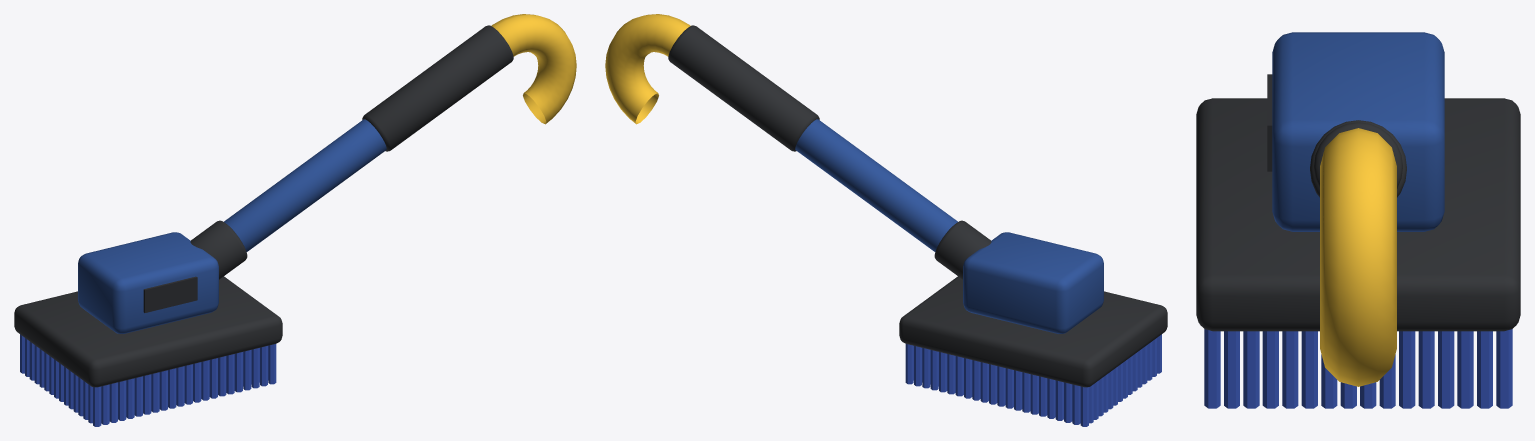
The model's file is BrosseManuelle.fbx.
3 renders of one model, left to right at view 1: azimuth 30°, elevation 25°; view 2: azimuth 150°, elevation 25°; view 3: azimuth 270°, elevation 25°, orthographic. The views are drawn at different scales.
Visible parts, largest first — view 1: BrosseMan_Base, BrosseMan_Bristles, BrosseMan_BatteryBox, BrosseMan_ShaftBlack, BrosseMan_ShaftBlue, BrosseMan_Handle, BrosseMan_Joint, BrosseMan_Display; view 2: BrosseMan_Base, BrosseMan_BatteryBox, BrosseMan_Bristles, BrosseMan_ShaftBlack, BrosseMan_ShaftBlue, BrosseMan_Handle, BrosseMan_Joint; view 3: BrosseMan_Base, BrosseMan_BatteryBox, BrosseMan_Handle, BrosseMan_Bristles, BrosseMan_ShaftBlack, BrosseMan_Joint, BrosseMan_Display.
Part boxes in pixels (left/top/right/bottom): BrosseMan_Base: left=14, top=276, right=282, bottom=387; BrosseMan_Bristles: left=20, top=334, right=276, bottom=426; BrosseMan_BatteryBox: left=78, top=232, right=218, bottom=333; BrosseMan_ShaftBlack: left=362, top=25, right=513, bottom=151; BrosseMan_ShaftBlue: left=224, top=119, right=386, bottom=251; BrosseMan_Handle: left=491, top=14, right=576, bottom=124; BrosseMan_Joint: left=190, top=220, right=247, bottom=279; BrosseMan_Display: left=143, top=276, right=197, bottom=312; BrosseMan_Base: left=899, top=276, right=1167, bottom=387; BrosseMan_BatteryBox: left=963, top=232, right=1103, bottom=333; BrosseMan_Bristles: left=905, top=334, right=1161, bottom=426; BrosseMan_ShaftBlack: left=668, top=25, right=819, bottom=151; BrosseMan_ShaftBlue: left=795, top=119, right=957, bottom=251; BrosseMan_Handle: left=605, top=14, right=690, bottom=124; BrosseMan_Joint: left=934, top=220, right=991, bottom=279; BrosseMan_Base: left=1196, top=98, right=1520, bottom=331; BrosseMan_BatteryBox: left=1272, top=32, right=1444, bottom=231; BrosseMan_Handle: left=1320, top=128, right=1396, bottom=386; BrosseMan_Bristles: left=1204, top=329, right=1512, bottom=408; BrosseMan_ShaftBlack: left=1314, top=122, right=1402, bottom=188; BrosseMan_Joint: left=1310, top=120, right=1406, bottom=197; BrosseMan_Display: left=1267, top=74, right=1272, bottom=171.
Size of the model in its own units: 0.595 by 0.2945 by 0.16.
